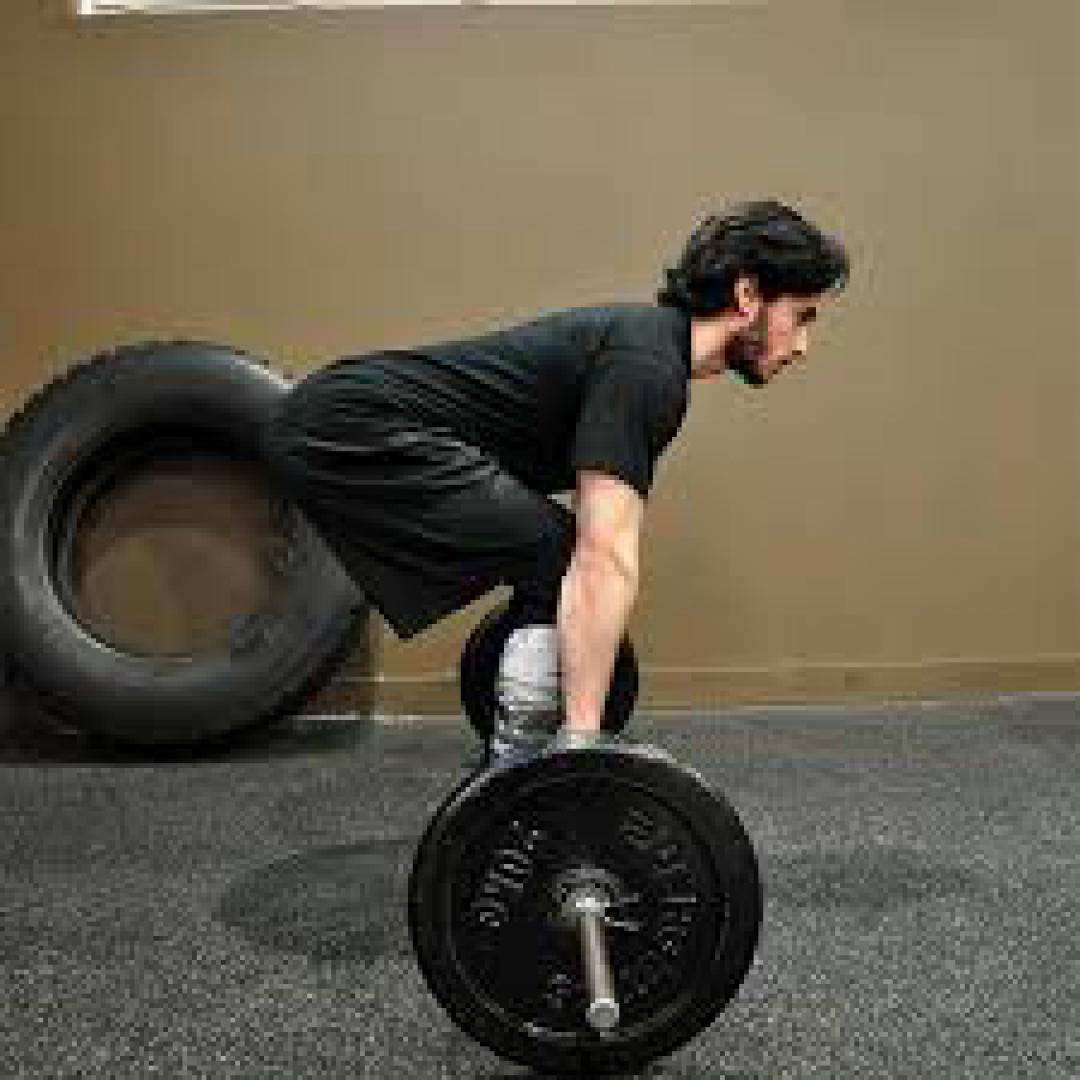Bar: (583, 995, 621, 1034)
Barbell: (408, 749, 763, 1075)
